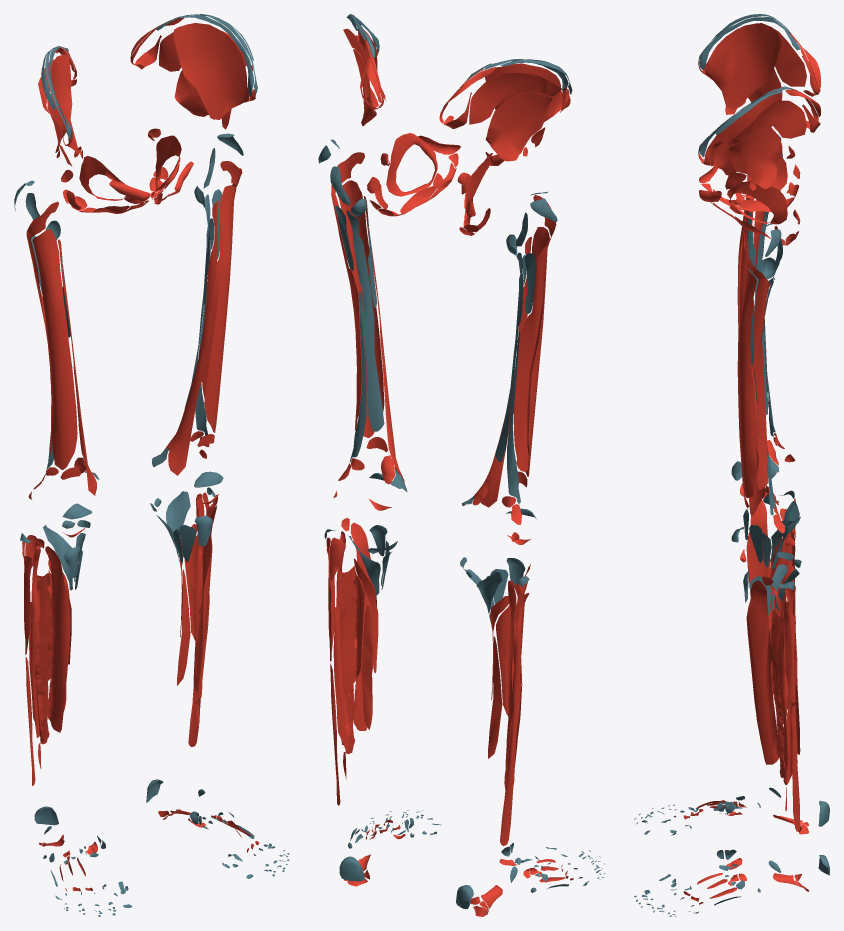
The model's file is 2_Muscular_insertions (2).glb.
The picture shows the model from 3 angles, left to right: view 1: azimuth 30°, elevation 25°; view 2: azimuth 150°, elevation 25°; view 3: azimuth 270°, elevation 25°; orthographic projection. The views are drawn at different scales.
Visible parts, largest first — view 1: Origin of vastus intermedius.r, Origin of psoas minor on Iliac fossa.l, Origin of vastus intermedius.l, Tibialis anterior on lateral surface of tibia.r, Origin of vastus medialis.l, Tibialis posterior on post. surface of interosseus membrane, Tibialis anterior on lateral surface of tibia.l, Origin of psoas minor on Iliac fossa.r, Extensor digitorum longus on fibula and interosseus membrane, Extensor hallucis longus on fibula and interosseus membrane., Tibialis posterior on post. surface of interosseus membrane., Origin of vastus lateralis.l (+12 smaller); view 2: Origin of vastus lateralis.r, Gluteus minimus muscle-Iliac insertion.r, Adductor magnus on medial lip of linea aspera.l, Tibialis posterior on post. surface of interosseus membrane, Origin of vastus intermedius.l, Gluteus medius muscle-Iliac insertion.r, Origin of vastus intermedius.r, Origin of vastus lateralis.l, Tibialis posterior on post. surface of interosseus membrane., Tibialis anterior on lateral surface of tibia.l, Flexor hallucis longus on post. fibular surf.l, Obturator internus-Pelvic insertion.l (+11 smaller); view 3: Origin of psoas minor on Iliac fossa.r, Tibialis anterior on lateral surface of tibia.l, Origin of vastus intermedius.l, Origin of vastus lateralis.l, Gluteus minimus muscle-Iliac insertion.l, Gluteus medius muscle-Iliac insertion.l, Origin of psoas minor on Iliac fossa.l, Obturator internus-Pelvic insertion.l, Tibialis anterior on lateral surface of tibia.r, Gluteus medius muscle-Iliac insertion.r, Fibularis longus on lateral side of fibula.l, Tibialis posterior on post. surface of interosseus membrane (+10 smaller).
Part boxes in pixels (x1,y1,x2,y2): Origin of vastus intermedius.r: (32, 229, 77, 469); Origin of psoas minor on Iliac fossa.l: (173, 23, 249, 119); Origin of vastus intermedius.l: (204, 185, 236, 432); Tibialis anterior on lateral surface of tibia.r: (45, 546, 70, 732); Origin of vastus medialis.l: (168, 200, 219, 475); Tibialis posterior on post. surface of interosseus membrane: (184, 534, 208, 643); Tibialis anterior on lateral surface of tibia.l: (194, 505, 216, 698); Origin of psoas minor on Iliac fossa.r: (51, 54, 78, 154); Extensor digitorum longus on fibula and interosseus membrane: (30, 546, 41, 737); Extensor hallucis longus on fibula and interosseus membrane.: (35, 624, 49, 738); Tibialis posterior on post. surface of interosseus membrane.: (34, 570, 52, 681); Origin of vastus lateralis.l: (202, 161, 242, 404); Origin of vastus lateralis.r: (514, 195, 556, 471); Gluteus minimus muscle-Iliac insertion.r: (485, 93, 552, 161); Adductor magnus on medial lip of linea aspera.l: (346, 210, 407, 491); Tibialis posterior on post. surface of interosseus membrane: (338, 565, 364, 686); Origin of vastus intermedius.l: (337, 180, 384, 437); Gluteus medius muscle-Iliac insertion.r: (469, 73, 561, 124); Origin of vastus intermedius.r: (525, 227, 549, 476); Origin of vastus lateralis.l: (331, 152, 364, 430); Tibialis posterior on post. surface of interosseus membrane.: (496, 605, 520, 723); Tibialis anterior on lateral surface of tibia.l: (350, 522, 376, 730); Flexor hallucis longus on post. fibular surf.l: (333, 607, 353, 754); Obturator internus-Pelvic insertion.l: (386, 133, 437, 196); Origin of psoas minor on Iliac fossa.r: (704, 23, 781, 109); Tibialis anterior on lateral surface of tibia.l: (746, 580, 779, 764); Origin of vastus intermedius.l: (737, 266, 756, 498); Origin of vastus lateralis.l: (744, 232, 769, 489); Gluteus minimus muscle-Iliac insertion.l: (729, 126, 782, 188); Gluteus medius muscle-Iliac insertion.l: (728, 100, 806, 144); Origin of psoas minor on Iliac fossa.l: (705, 93, 781, 175); Obturator internus-Pelvic insertion.l: (727, 181, 787, 224); Tibialis anterior on lateral surface of tibia.r: (746, 500, 773, 693); Gluteus medius muscle-Iliac insertion.r: (773, 28, 806, 86); Fibularis longus on lateral side of fibula.l: (780, 585, 795, 703); Tibialis posterior on post. surface of interosseus membrane: (770, 608, 787, 724).
Bounding box in the file's own units: 0.2942 × 1 × 0.2199.
